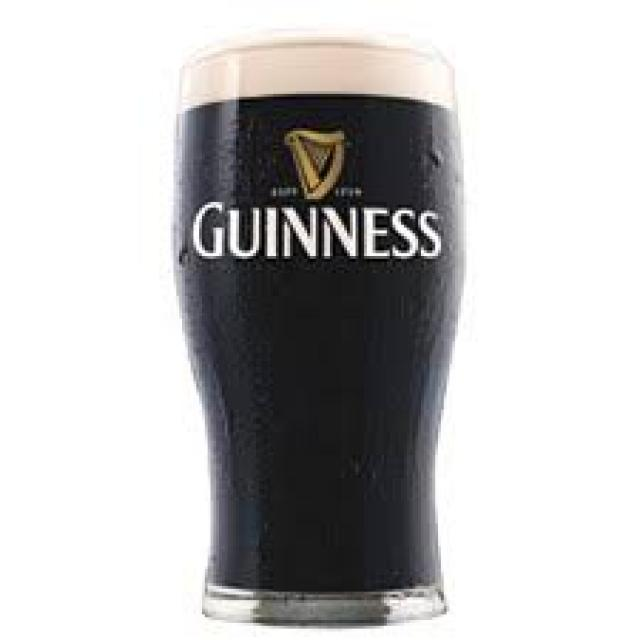guiness_full_glass: (171, 34, 466, 634)
